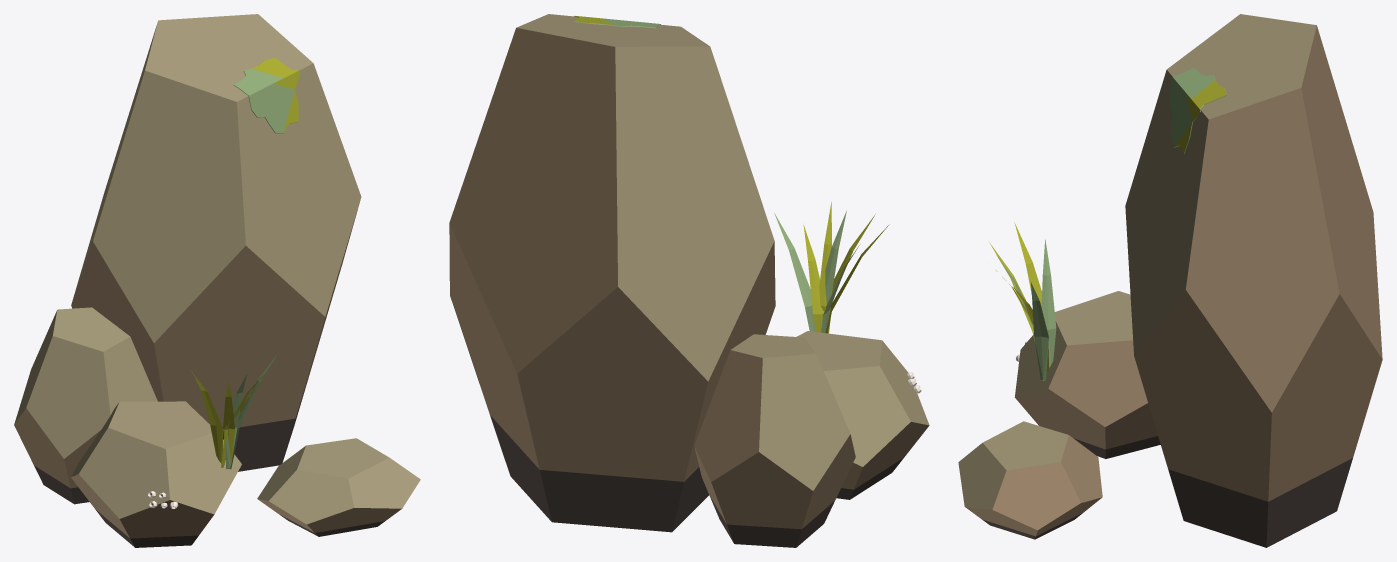
File: tropicalRockTall.glb
The picture shows the model from 3 angles, left to right: view 1: azimuth 30°, elevation 25°; view 2: azimuth 150°, elevation 25°; view 3: azimuth 270°, elevation 25°; orthographic projection. The views are drawn at different scales.
Visible parts, largest first — view 1: tropicalRockTall; view 2: tropicalRockTall; view 3: tropicalRockTall.
Boxes of the visible parts, bbox=[...] form: tropicalRockTall: bbox=[14, 14, 420, 547]; tropicalRockTall: bbox=[449, 14, 929, 547]; tropicalRockTall: bbox=[958, 14, 1382, 547].
Bounding box in the file's own units: 2 × 2.4 × 2.
Materials: 1 (1 with a texture image).
